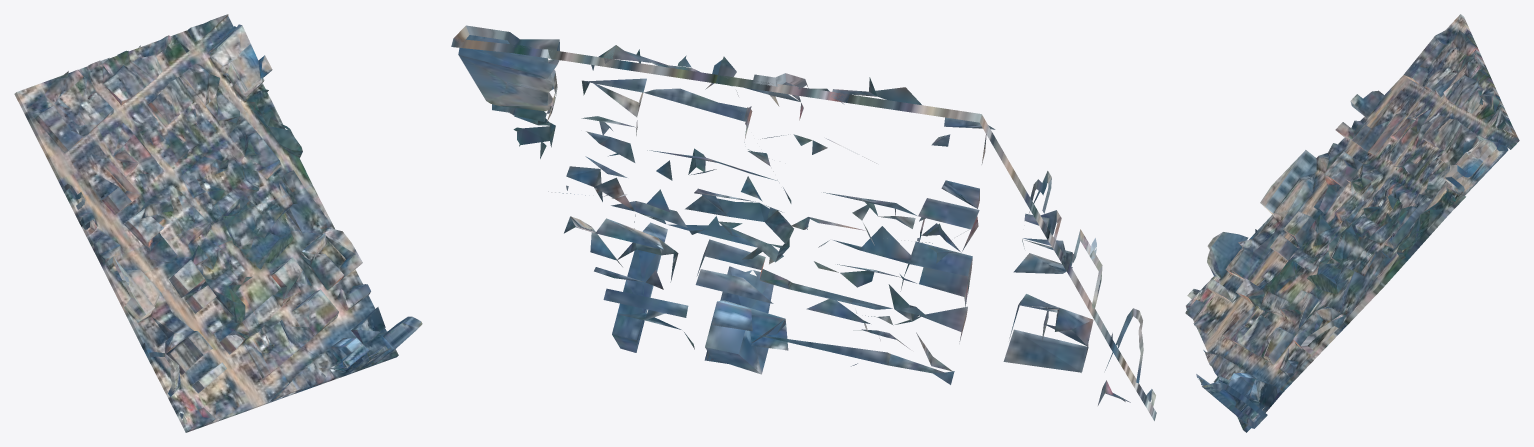
The model's file is AJVsH2xqlsY4_ir6q3x_lN-38xGQU7FnuWKQ3BapDC4KtryoEy5QSgjT2aZFdmMdCCsn4EINgBQ1k1LdDs9dL7RwilCVdfCC8A-PmBfu4--UmNeox7pWAlCZA_fxNMldz_IUQDVCMLPm2mx2d7OUatQLim3oC3U82A.glb.
3 views of the same model, side by side, from view 1: azimuth 30°, elevation 25°; view 2: azimuth 150°, elevation 25°; view 3: azimuth 270°, elevation 25° (orthographic). The views are drawn at different scales.
Bounding box in the file's own units: 524 × 466 × 501.
Materials: 2 (2 with a texture image).
